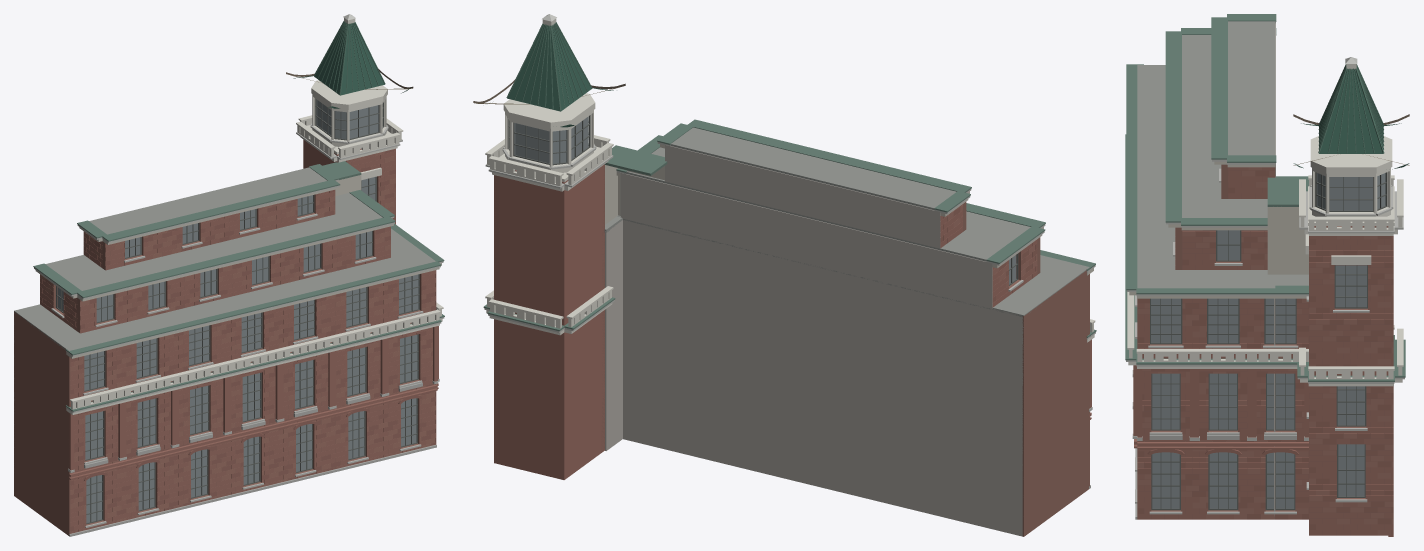
The model's file is hongkou-east-daming-road-378-lod.glb.
3 renders of one model, left to right at view 1: azimuth 30°, elevation 25°; view 2: azimuth 150°, elevation 25°; view 3: azimuth 270°, elevation 25°, orthographic. The views are drawn at different scales.
Parts seen in each view (by area): view 1: 东大名路378号红砖办公楼街面与塔亭; view 2: 东大名路378号红砖办公楼街面与塔亭; view 3: 东大名路378号红砖办公楼街面与塔亭.
Part boxes in pixels (left/top/right/bottom): 东大名路378号红砖办公楼街面与塔亭: left=14, top=14, right=444, bottom=536; 东大名路378号红砖办公楼街面与塔亭: left=473, top=14, right=1096, bottom=536; 东大名路378号红砖办公楼街面与塔亭: left=1125, top=14, right=1409, bottom=536.
Size of the model in its own units: 30.8 by 26.76 by 14.9.
